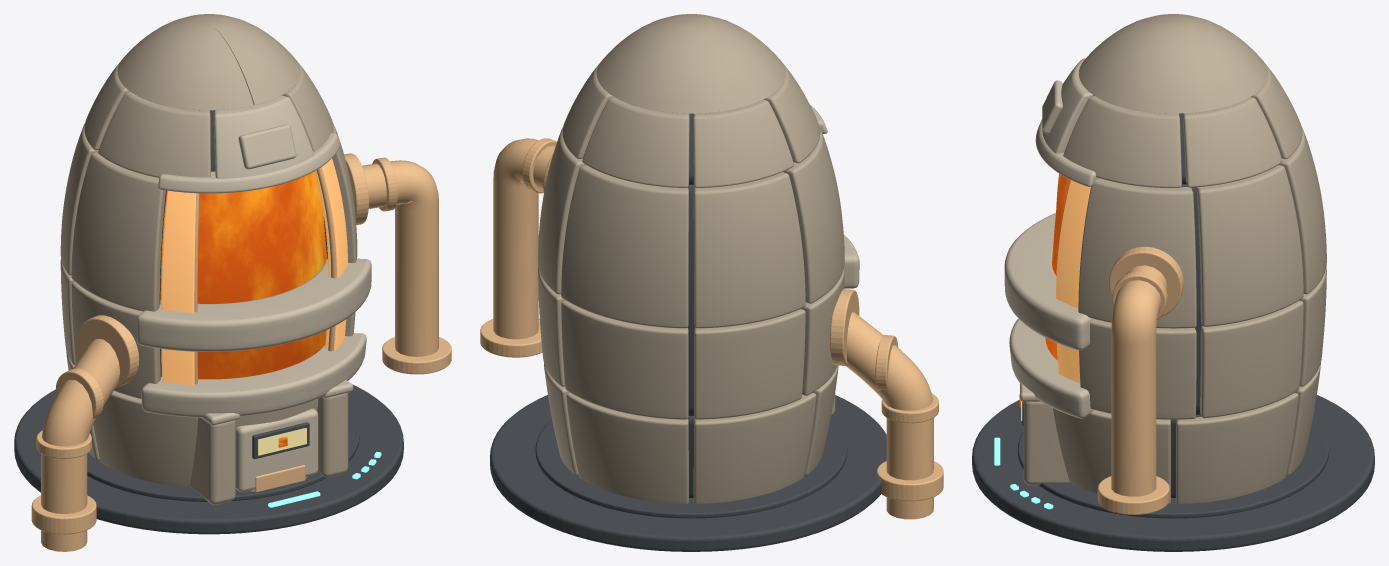
File: reactor.glb
3 renders of one model, left to right at view 1: azimuth 30°, elevation 25°; view 2: azimuth 150°, elevation 25°; view 3: azimuth 270°, elevation 25°, orthographic. The views are drawn at different scales.
Parts seen in each view (by area): view 1: flame_core, reactor_base, reactor_shell_cap, reactor_shell_2_4, reactor_rib_big, reactor_pipe_right, reactor_rib_low, reactor_pipe_left, reactor_shell_3_5, reactor_shell_0_5, reactor_jamb_-1, reactor_shell_3_0 (+26 smaller); view 2: reactor_base, reactor_shell_2_2, reactor_shell_2_3, reactor_shell_cap, reactor_shell_1_2, reactor_shell_1_3, reactor_shell_0_4, reactor_shell_0_3, reactor_pipe_right, reactor_pipe_left, reactor_shell_3_3, reactor_base_top (+17 smaller); view 3: reactor_base, reactor_shell_cap, reactor_shell_2_1, reactor_shell_2_0, reactor_pipe_right, reactor_shell_0_2, reactor_shell_1_1, reactor_shell_3_1, reactor_shell_3_2, reactor_rib_big, reactor_shell_1_0, reactor_base_top (+16 smaller).
Boxes of the visible parts, x1,y1,x2,y2 form: flame_core: (160, 171, 327, 379); reactor_base: (14, 384, 403, 534); reactor_shell_cap: (117, 14, 300, 110); reactor_shell_2_4: (71, 152, 165, 311); reactor_rib_big: (137, 258, 371, 351); reactor_pipe_right: (362, 160, 438, 356); reactor_rib_low: (141, 333, 366, 417); reactor_pipe_left: (41, 339, 119, 551); reactor_shell_3_5: (98, 91, 210, 177); reactor_shell_0_5: (93, 391, 198, 487); reactor_jamb_-1: (161, 190, 196, 384); reactor_shell_3_0: (214, 95, 313, 178); reactor_base: (490, 395, 886, 551); reactor_shell_2_2: (561, 165, 688, 328); reactor_shell_2_3: (693, 172, 805, 328); reactor_shell_cap: (596, 14, 785, 113); reactor_shell_1_2: (561, 300, 688, 419); reactor_shell_1_3: (694, 309, 805, 419); reactor_shell_0_4: (693, 392, 816, 503); reactor_shell_0_3: (566, 393, 688, 503); reactor_pipe_right: (493, 138, 555, 339); reactor_pipe_left: (846, 311, 933, 519); reactor_shell_3_3: (582, 97, 689, 187); reactor_base_top: (535, 419, 847, 518); reactor_base: (972, 395, 1374, 551); reactor_shell_cap: (1078, 14, 1267, 113); reactor_shell_2_1: (1196, 165, 1303, 326); reactor_shell_2_0: (1078, 178, 1196, 328); reactor_pipe_right: (1111, 265, 1167, 496); reactor_shell_0_2: (1175, 392, 1298, 503); reactor_shell_1_1: (1200, 300, 1303, 418); reactor_shell_3_1: (1063, 96, 1181, 187); reactor_shell_3_2: (1183, 97, 1282, 187); reactor_rib_big: (1004, 213, 1093, 350); reactor_shell_1_0: (1079, 319, 1196, 419); reactor_base_top: (1017, 420, 1329, 518).
Size of the model in its own units: 4.24 by 4.28 by 3.36.
8 materials, 1 textured.
